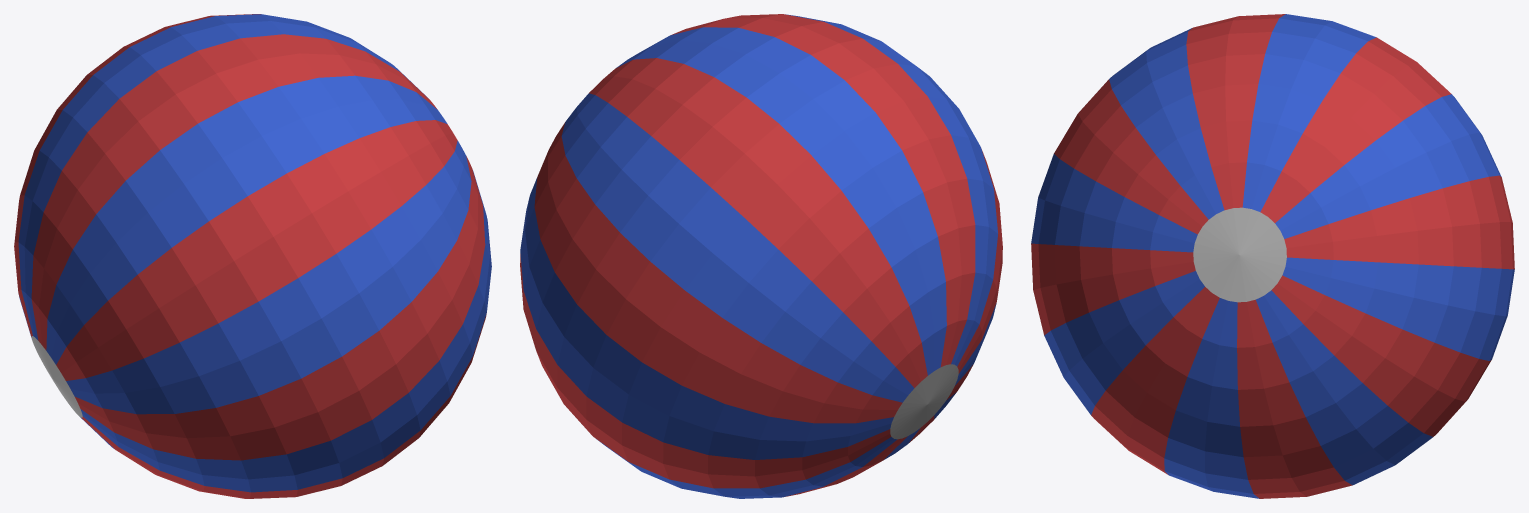
Rendered from ball_red_blue.fbx.
The picture shows the model from 3 angles, left to right: view 1: azimuth 30°, elevation 25°; view 2: azimuth 150°, elevation 25°; view 3: azimuth 270°, elevation 25°; orthographic projection.
Visible parts, largest first — view 1: Sphere; view 2: Sphere; view 3: Sphere.
Boxes of the visible parts, bbox=[...] form: Sphere: bbox=[14, 14, 491, 498]; Sphere: bbox=[520, 14, 1002, 498]; Sphere: bbox=[1031, 14, 1514, 498].
Size of the model in its own units: 53.57 by 55.25 by 55.49.
